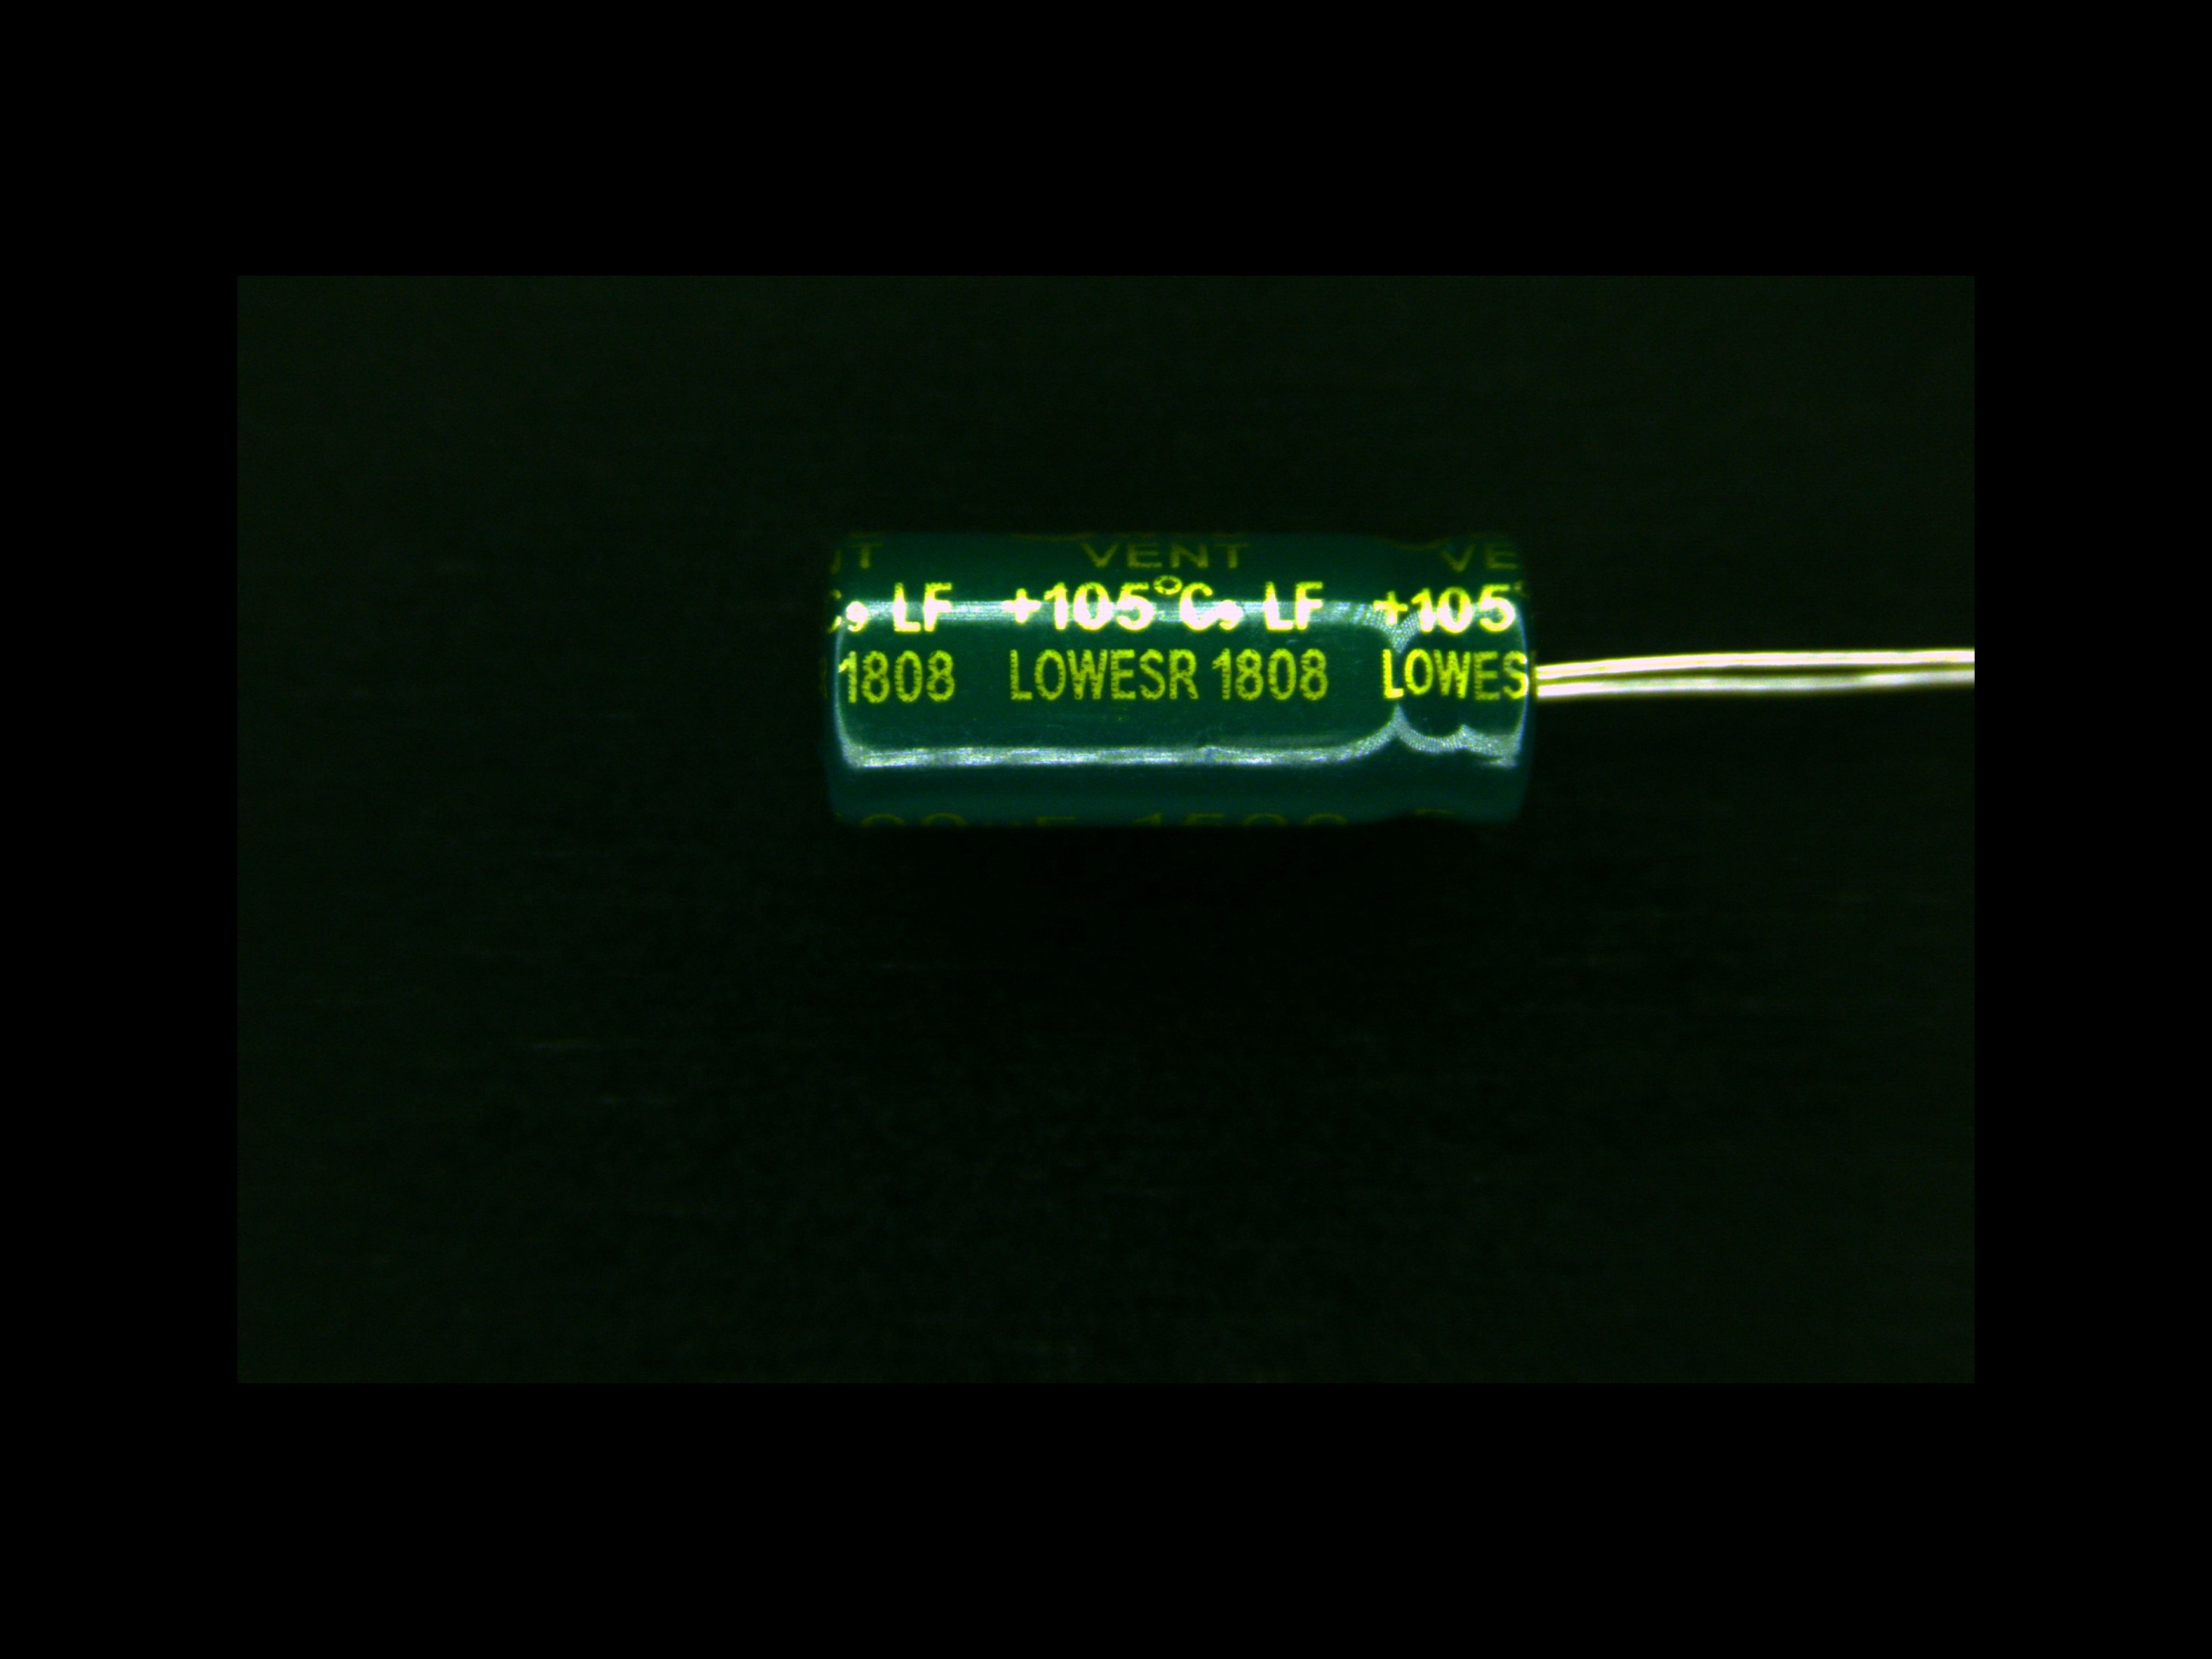c1: (815, 540, 1615, 833)
